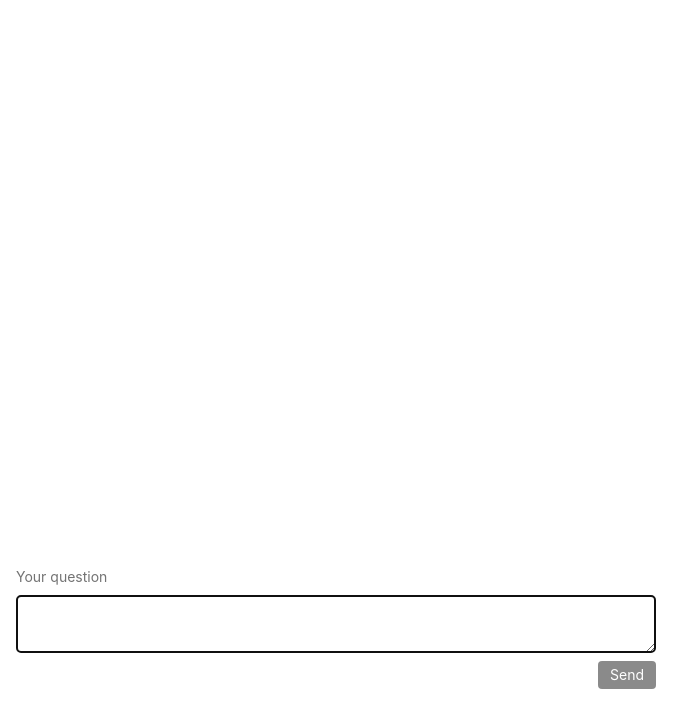
Chat (jsdom) › citations › renders titles as plain text
Type "q" into the text box labelled "Your question" at (336, 624), box top-left (16, 595), bottom-right (656, 653)
Then press Enter
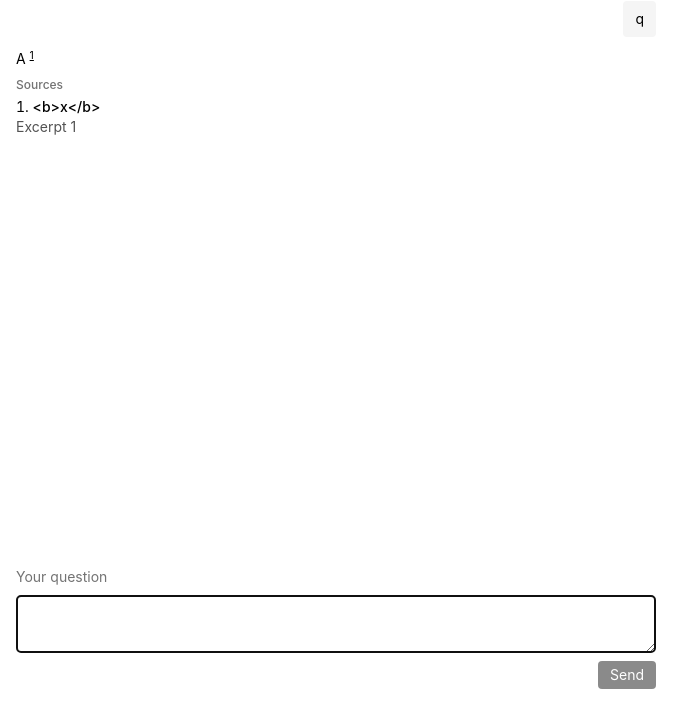
Expected: the text "<b>x</b>" is shown, top-left (33, 98), bottom-right (100, 115)
